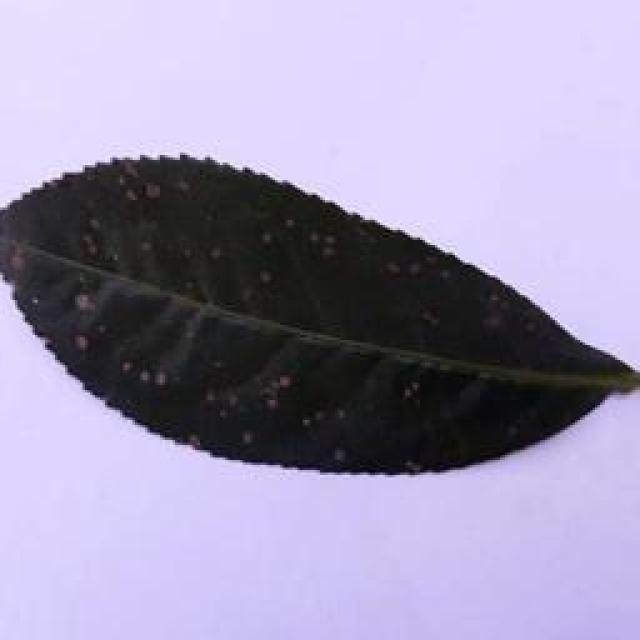Algal Leaf Spot: (0, 145, 640, 496)
